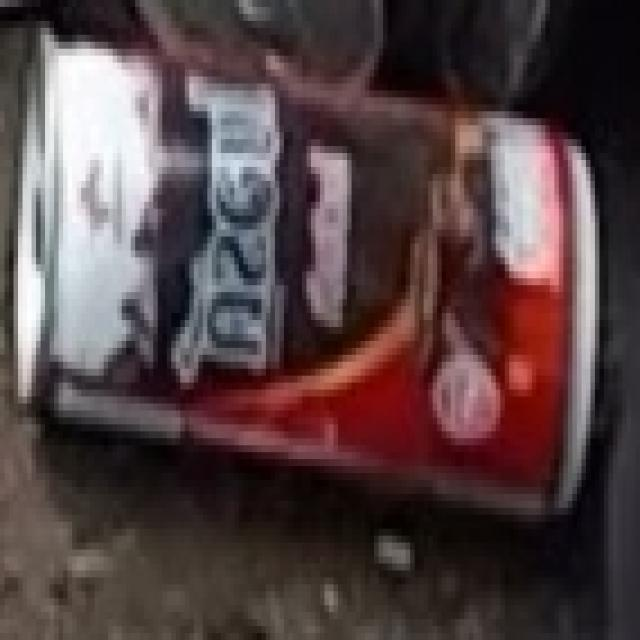can: (13, 0, 635, 570)
